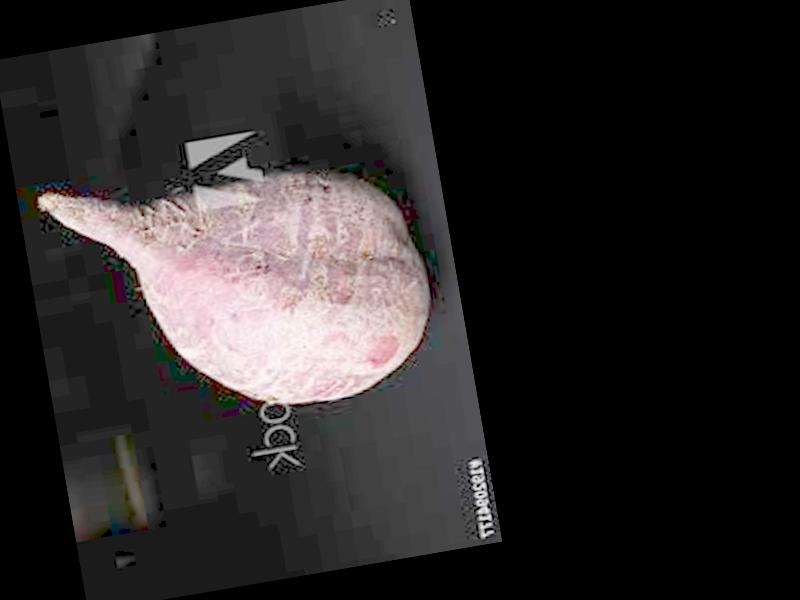Beet: (38, 136, 440, 444)
